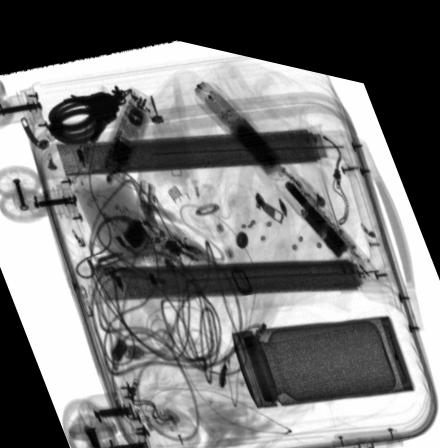Baton: (193, 66, 377, 270)
HandCuffs: (46, 79, 131, 143)
Lighter: (166, 176, 215, 238)
